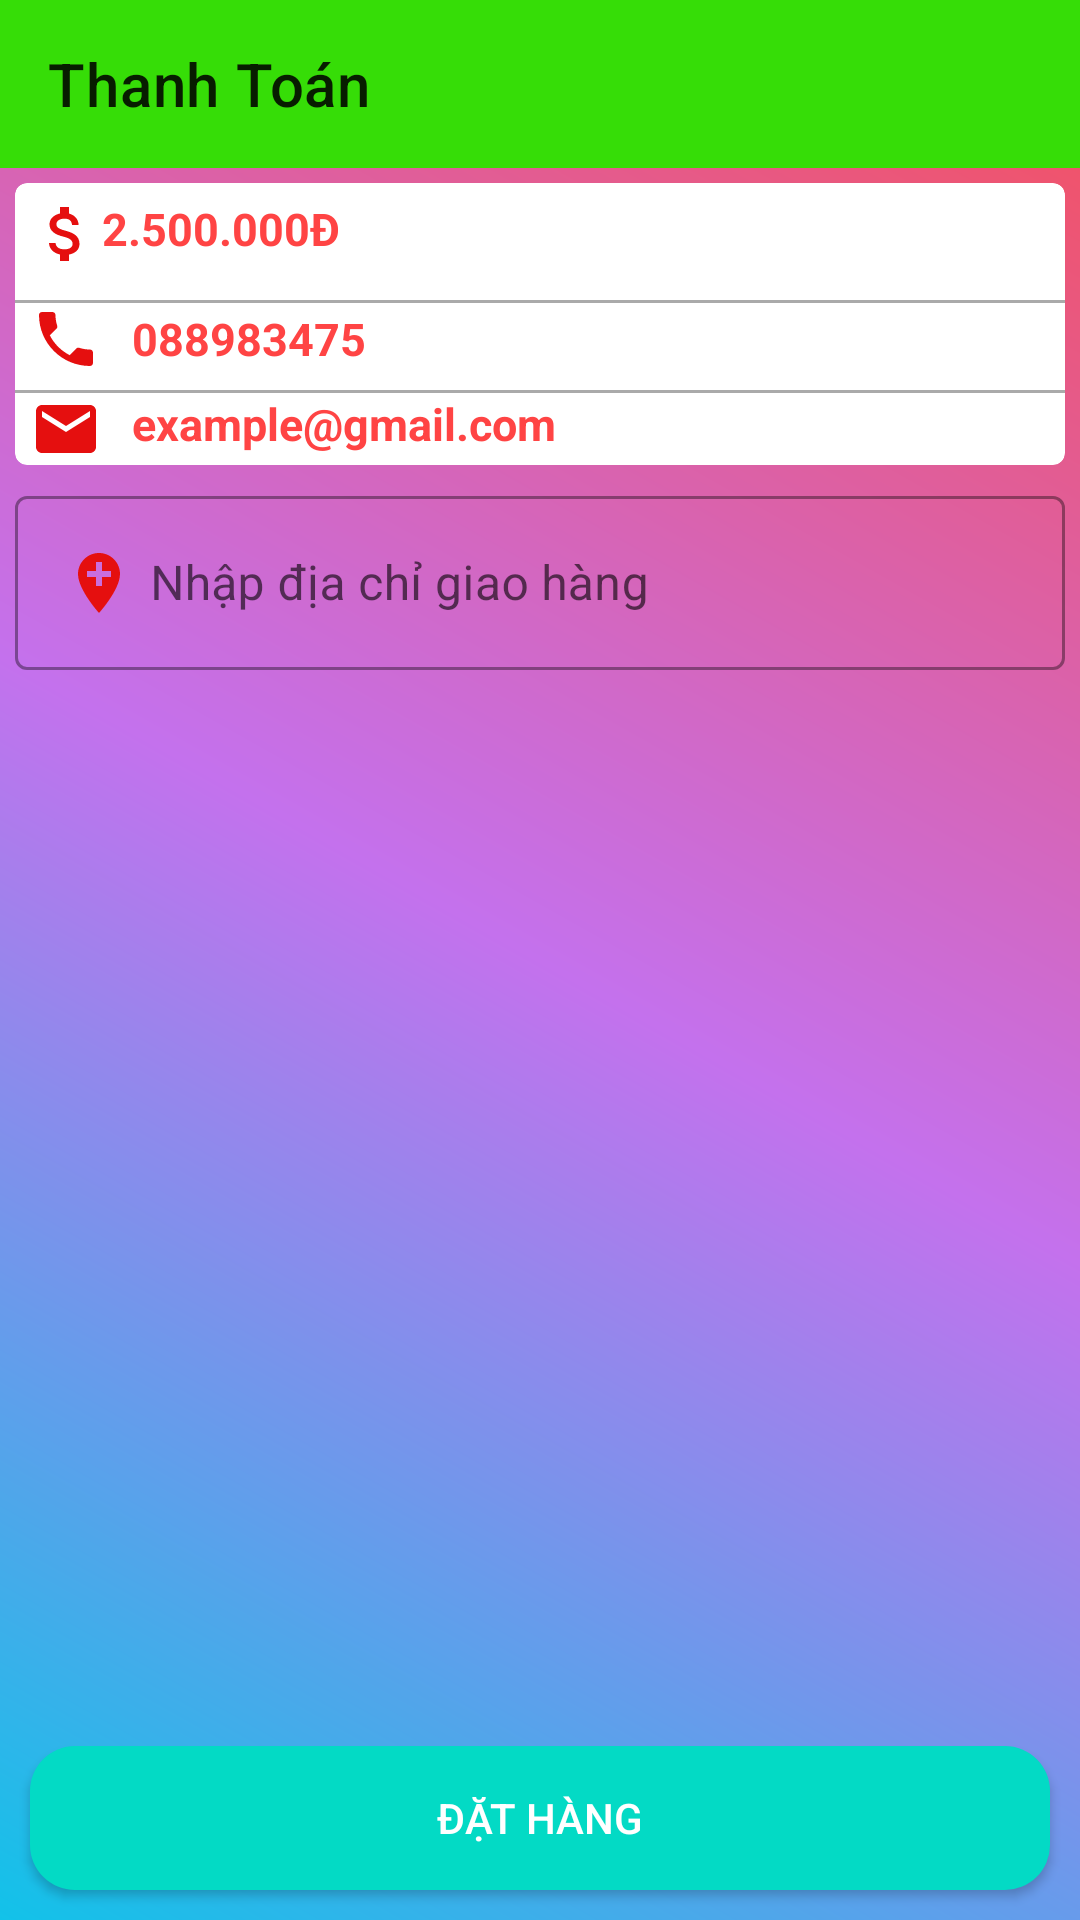

Icons on this 1080x1920 Android screen, each with its box as (x1, y1, x2, y2):
attach money: (49, 207, 80, 261)
email: (36, 405, 96, 453)
local phone: (39, 312, 93, 366)
